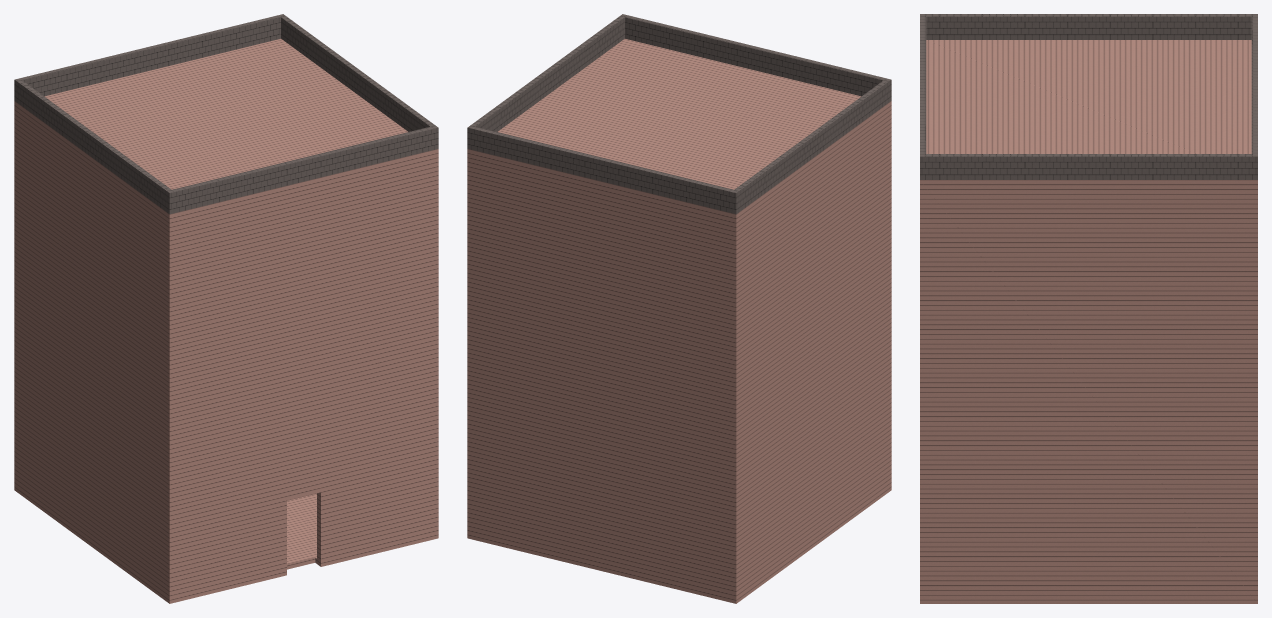
Rendered from grain_elevator_small.glb.
3 renders of one model, left to right at view 1: azimuth 30°, elevation 25°; view 2: azimuth 150°, elevation 25°; view 3: azimuth 270°, elevation 25°, orthographic. The views are drawn at different scales.
Visible parts, largest first — view 1: grain_elevator_small-col; view 2: grain_elevator_small-col; view 3: grain_elevator_small-col.
Boxes of the visible parts, x1,y1,x2,y2 form: grain_elevator_small-col: [14, 14, 438, 603]; grain_elevator_small-col: [467, 14, 891, 603]; grain_elevator_small-col: [920, 14, 1257, 603].
Size of the model in its own units: 7.92 by 11.57 by 7.92.
2 materials, 2 textured.
